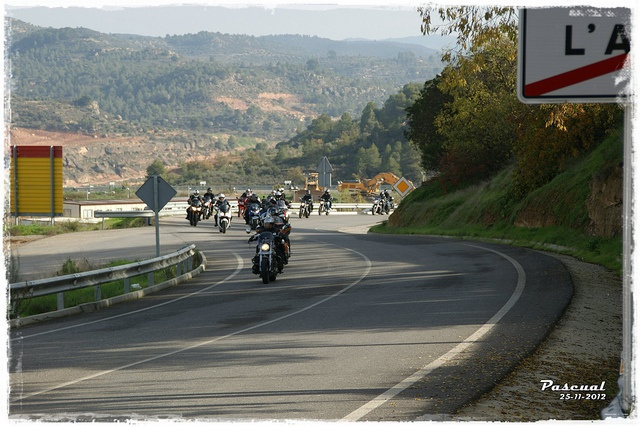non-vehicle: (245, 221, 292, 285), (215, 207, 231, 233), (247, 204, 262, 228), (235, 196, 250, 218), (188, 199, 200, 226), (200, 198, 213, 220), (299, 197, 312, 218), (274, 200, 287, 221), (371, 199, 388, 215), (318, 196, 329, 214)
